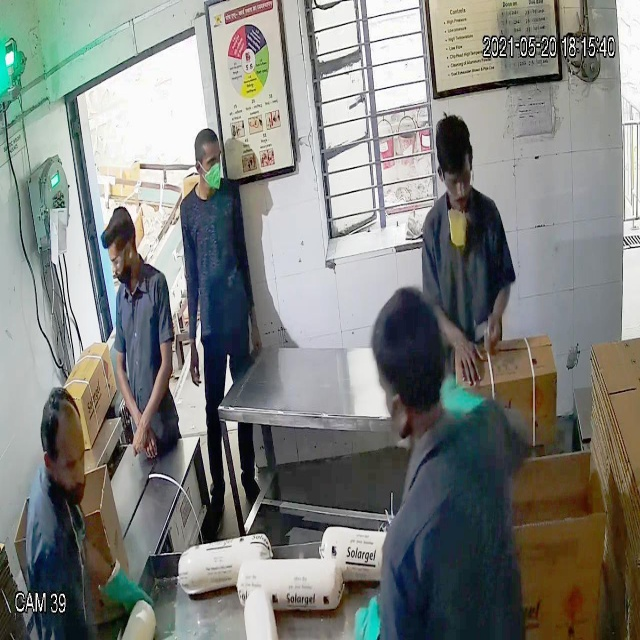Gafas: (437, 163, 477, 204), (102, 238, 139, 277)
Sin_gafas: (187, 148, 227, 176)
